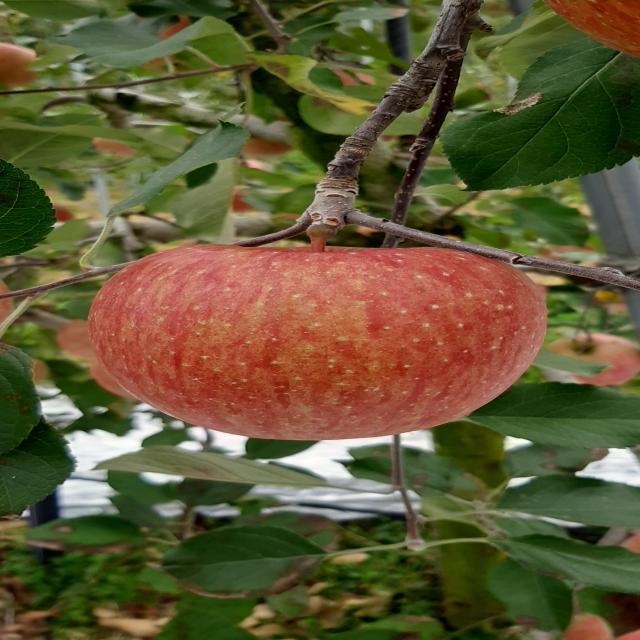fresh: (74, 232, 565, 445)
